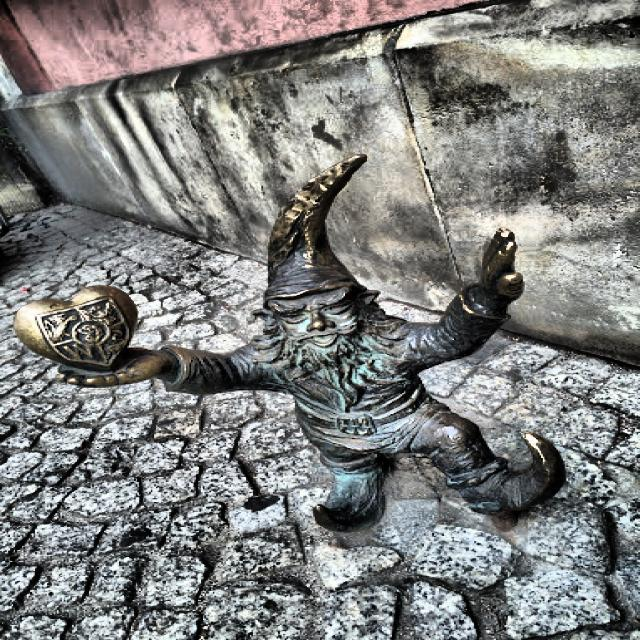WrocLovek: (14, 153, 566, 534)
